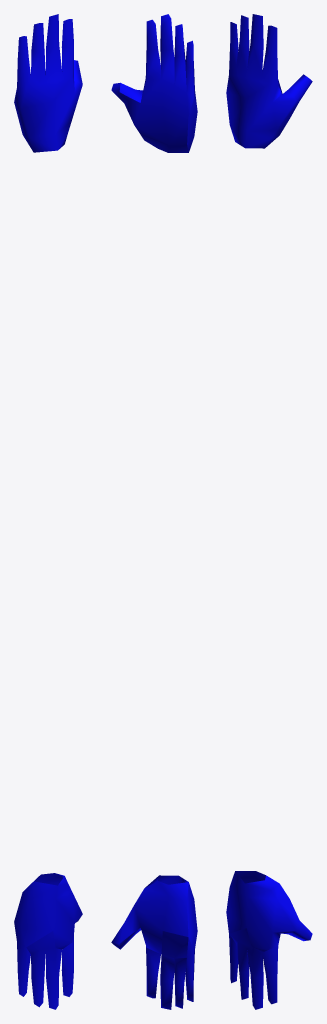
3 renders of one model, left to right at view 1: azimuth 30°, elevation 25°; view 2: azimuth 150°, elevation 25°; view 3: azimuth 330°, elevation 25°, orthographic.
Parts seen in each view (by area): view 1: rg_hand_001; view 2: rg_hand_001; view 3: rg_hand_001.
Boxes of the visible parts, x1,y1,x2,y2 form: rg_hand_001: [14, 14, 82, 1009]; rg_hand_001: [111, 14, 197, 1009]; rg_hand_001: [226, 14, 312, 1009].
Size of the model in its own units: 14.59 by 196 by 9.02.
